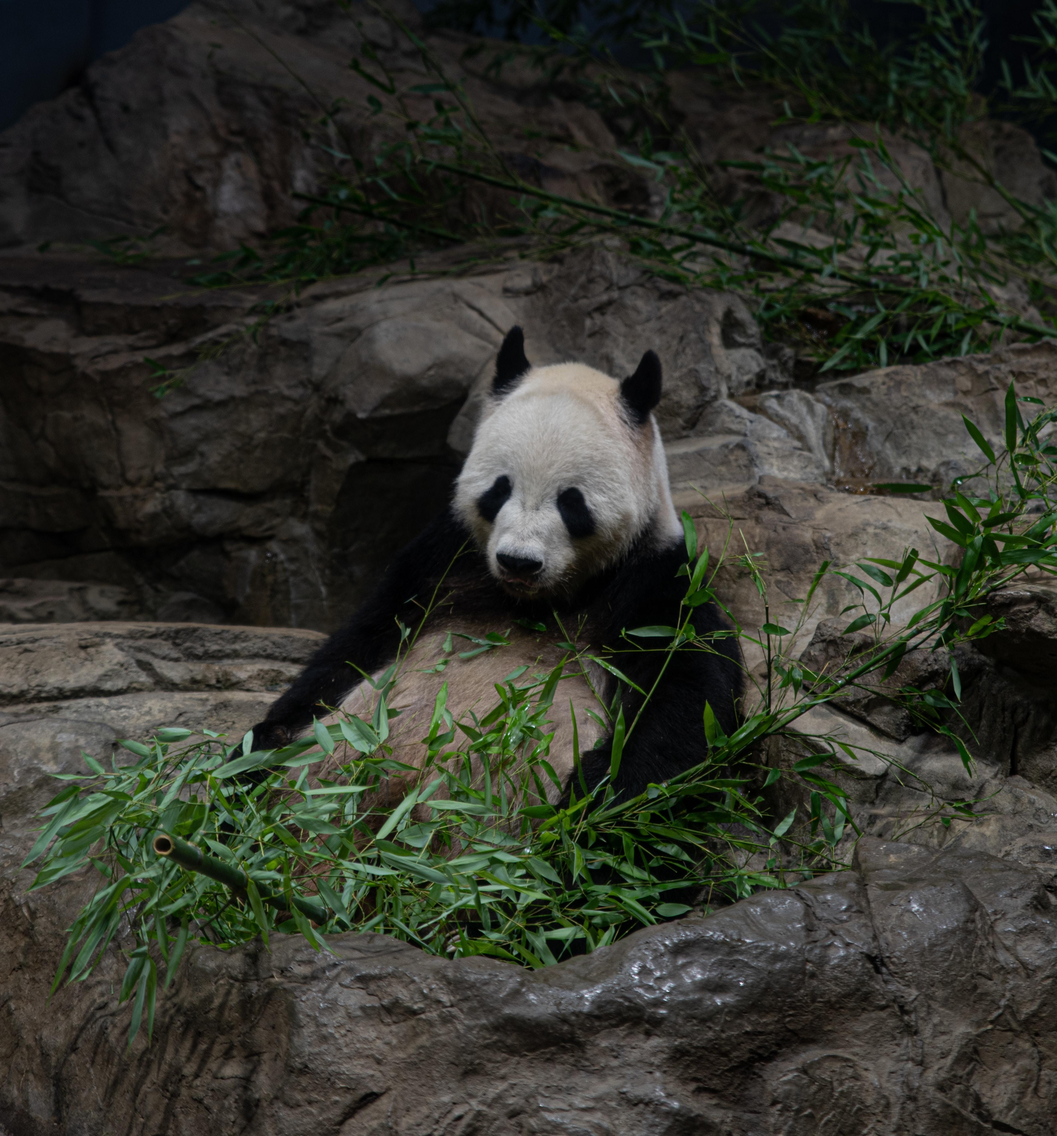panda: (255, 326, 755, 816)
